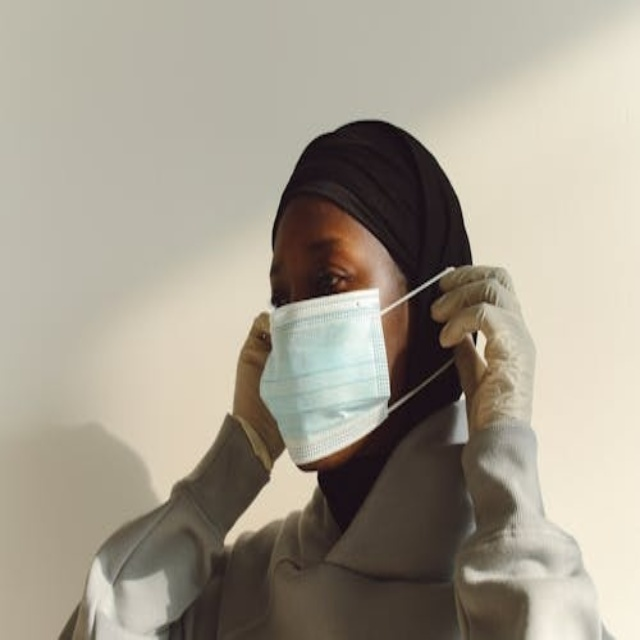Guantes: (432, 265, 537, 433), (231, 307, 290, 473)
Mascara: (260, 286, 397, 466)
Sin_gafas: (268, 231, 357, 311)
